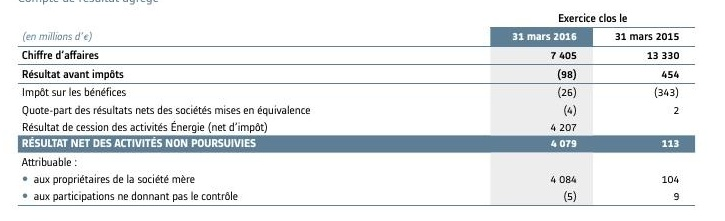table: (0, 0, 725, 221)
